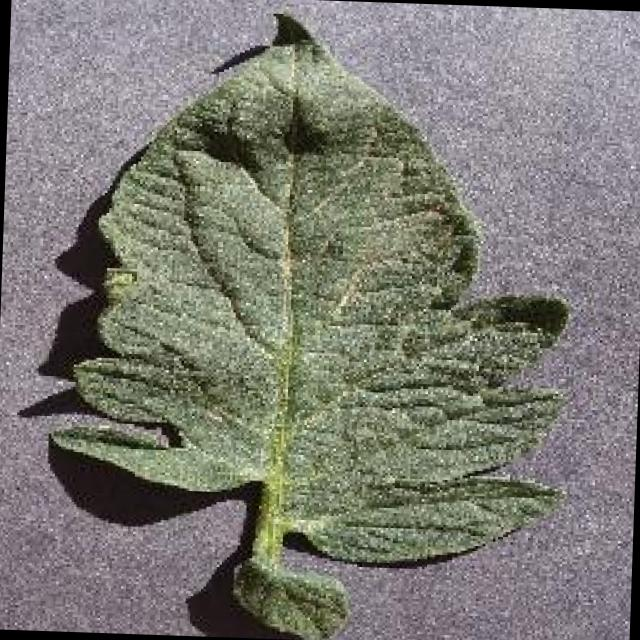Tomato_Healthy: (38, 9, 577, 570)
